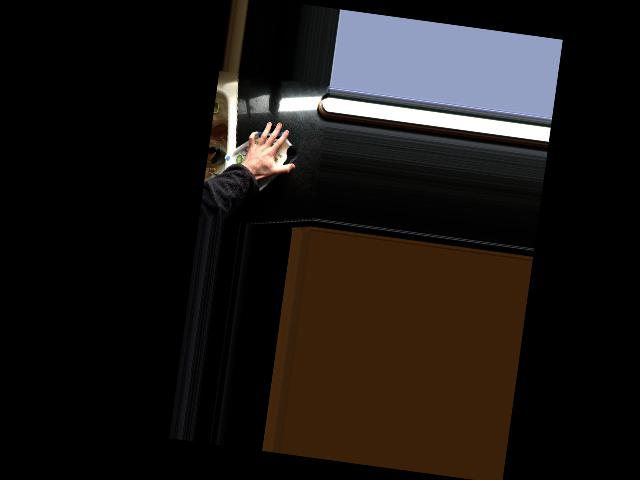cheese: (217, 116, 302, 200)
